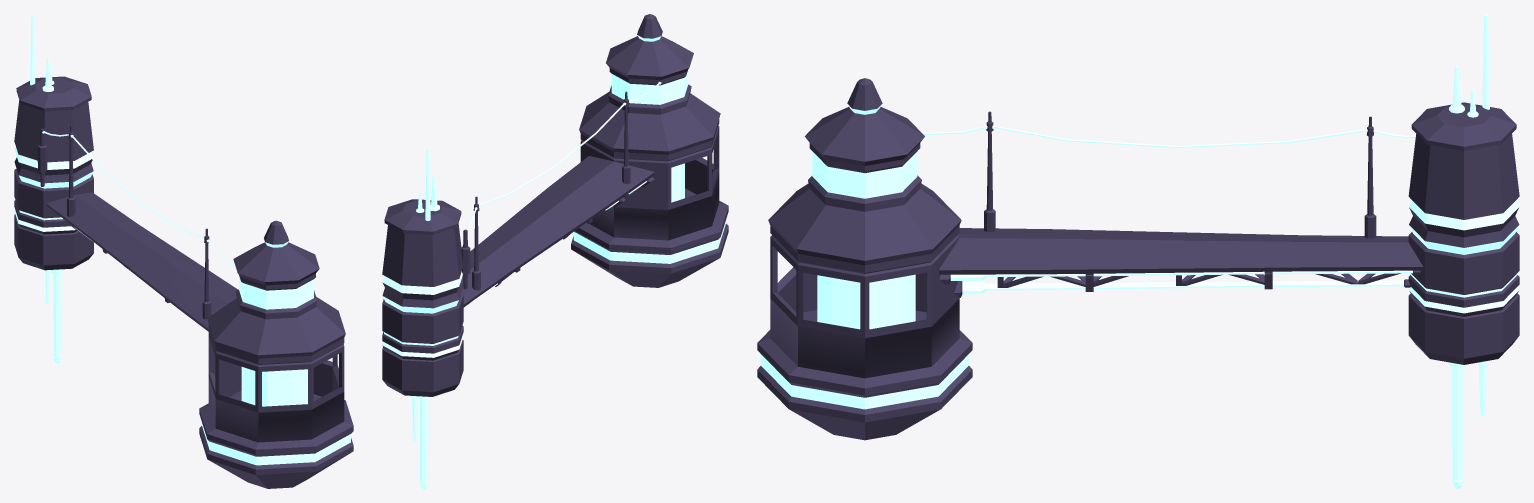
The model's file is Fly_House_03.fbx.
The picture shows the model from 3 angles, left to right: view 1: azimuth 30°, elevation 25°; view 2: azimuth 150°, elevation 25°; view 3: azimuth 270°, elevation 25°; orthographic projection. The views are drawn at different scales.
Visible parts, largest first — view 1: Fly_House_03; view 2: Fly_House_03; view 3: Fly_House_03.
Part boxes in pixels (x1=…): Fly_House_03: x1=14, y1=14, x2=353, y2=488; Fly_House_03: x1=382, y1=14, x2=728, y2=488; Fly_House_03: x1=757, y1=14, x2=1519, y2=488.
Bounding box in the file's own units: 835 × 1988 × 2957.
